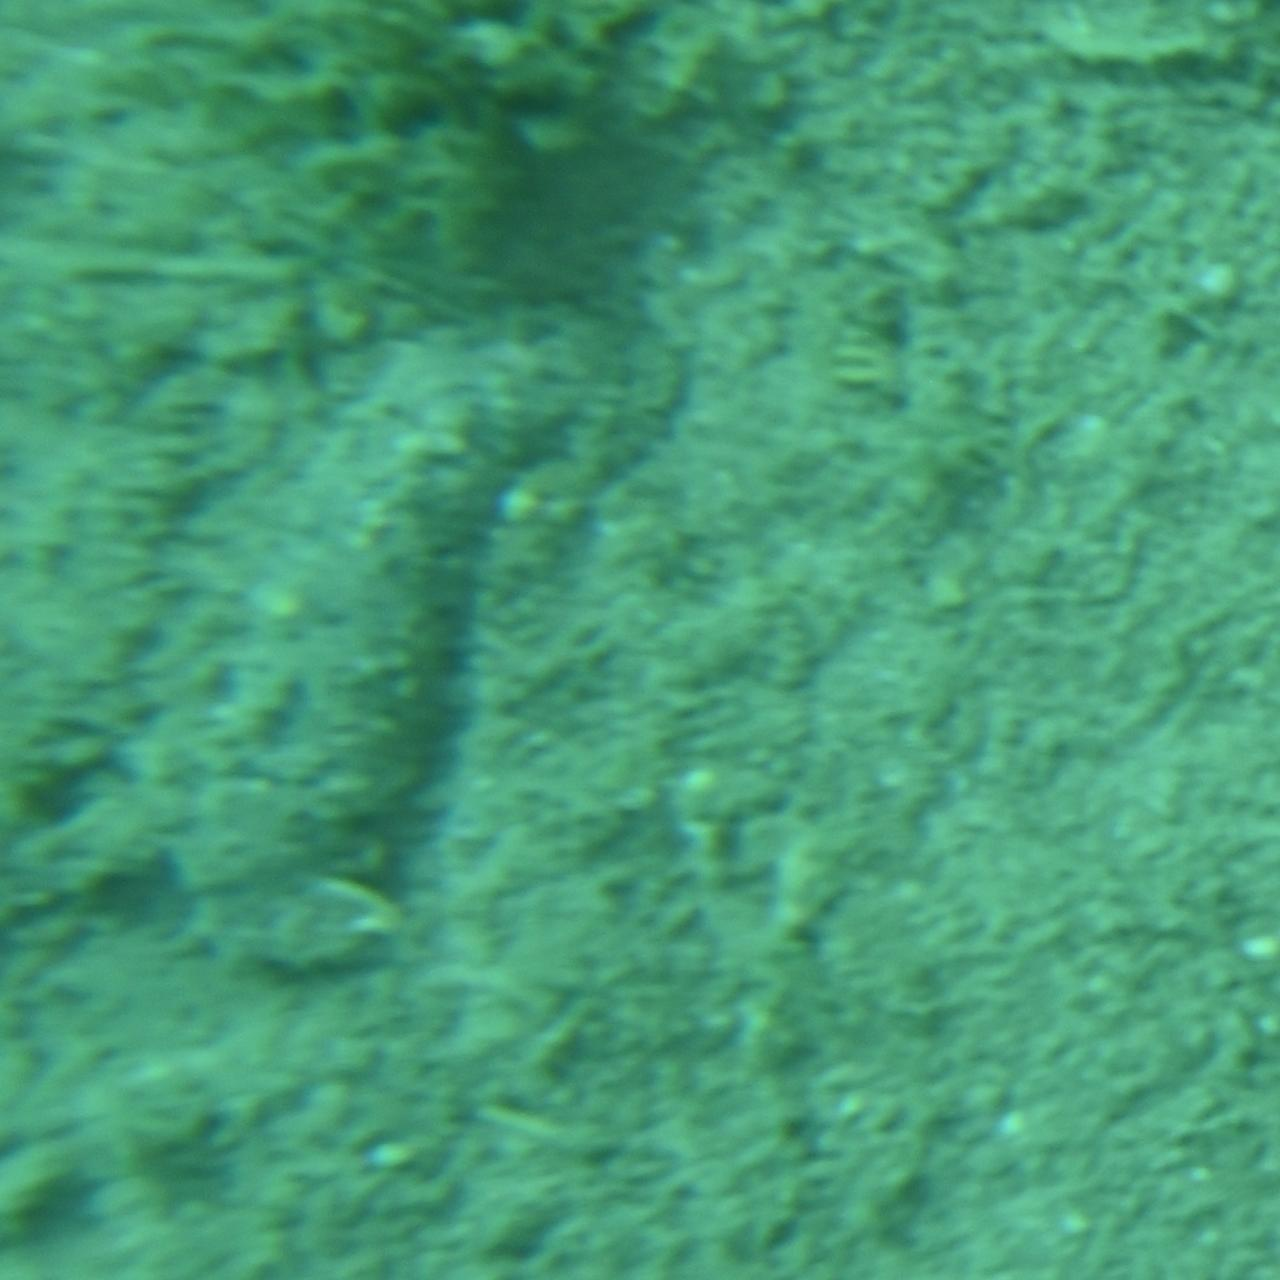Holothuria tubulosa: (120, 284, 672, 996)
